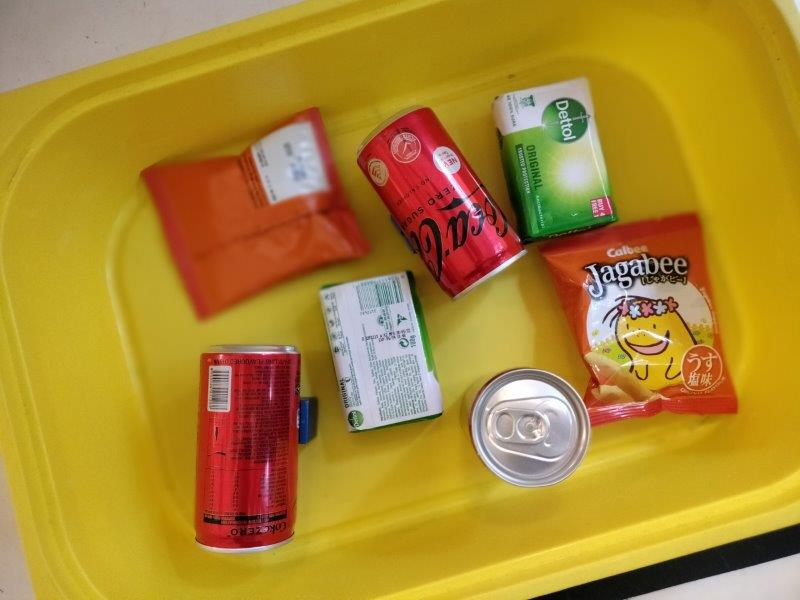Coke: (357, 107, 528, 302), (197, 343, 299, 550), (468, 367, 592, 487)
Dettol: (492, 76, 618, 245), (321, 272, 445, 434)
Jagabee: (138, 109, 372, 322), (537, 212, 737, 426)
